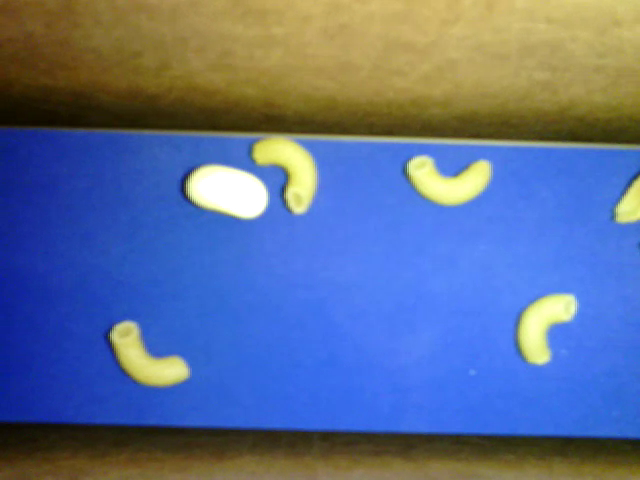elbow: (251, 134, 317, 214), (110, 321, 188, 385), (405, 154, 492, 205), (515, 293, 577, 364)
